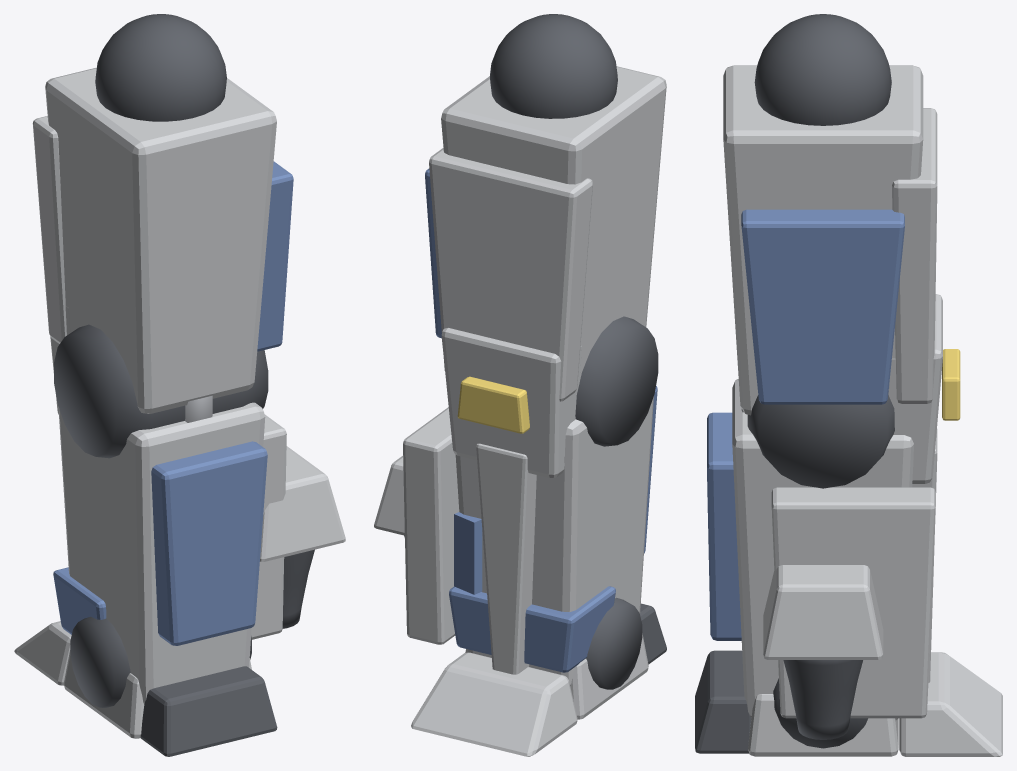
Rendered from leg_heavy_r.glb.
The picture shows the model from 3 angles, left to right: view 1: azimuth 30°, elevation 25°; view 2: azimuth 150°, elevation 25°; view 3: azimuth 270°, elevation 25°; orthographic projection. The views are drawn at different scales.
Parts seen in each view (by area): view 1: thigh, shin, calf, hip_joint, knee_cyl, heel, hover_fairing, thigh_front, thigh_side, ankle, shin_armor2, foot (+4 smaller); view 2: thigh_front, thigh, shin, toe, knee_cap, hip_joint, shin_armor2, shin_ridge, knee_cyl, ankle_guard, ankle, knee_trim (+6 smaller); view 3: thigh_side, thigh, shin_armor2, hip_joint, shin, hover_fairing, knee_cyl, thigh_front, toe, calf, heel, hover_pod (+5 smaller).
Part boxes in pixels (left/top/right/bottom): thigh: left=45, top=67, right=276, bottom=413; shin: left=58, top=402, right=265, bottom=703; calf: left=151, top=441, right=267, bottom=645; hip_joint: left=95, top=14, right=226, bottom=121; knee_cyl: left=54, top=324, right=268, bottom=458; heel: left=140, top=666, right=277, bottom=756; hover_fairing: left=260, top=446, right=345, bottom=562; thigh_front: left=32, top=116, right=66, bottom=343; thigh_side: left=257, top=161, right=293, bottom=351; ankle: left=70, top=616, right=251, bottom=707; shin_armor2: left=251, top=414, right=286, bottom=639; foot: left=63, top=650, right=251, bottom=738; thigh_front: left=429, top=148, right=592, bottom=401; thigh: left=441, top=66, right=666, bottom=378; shin: left=455, top=396, right=653, bottom=685; toe: left=411, top=652, right=577, bottom=756; knee_cap: left=441, top=328, right=581, bottom=477; hip_joint: left=489, top=14, right=617, bottom=118; shin_armor2: left=403, top=407, right=459, bottom=644; shin_ridge: left=476, top=443, right=536, bottom=674; knee_cyl: left=575, top=316, right=658, bottom=446; ankle_guard: left=449, top=586, right=615, bottom=672; ankle: left=586, top=597, right=642, bottom=689; knee_trim: left=457, top=376, right=529, bottom=433; thigh_side: left=741, top=209, right=904, bottom=404; thigh: left=723, top=65, right=923, bottom=415; shin_armor2: left=771, top=487, right=935, bottom=718; hip_joint: left=754, top=14, right=891, bottom=125; shin: left=732, top=379, right=913, bottom=720; hover_fairing: left=763, top=565, right=883, bottom=659; knee_cyl: left=747, top=395, right=894, bottom=488; thigh_front: left=892, top=108, right=937, bottom=403; toe: left=899, top=652, right=1002, bottom=756; calf: left=707, top=412, right=741, bottom=640; heel: left=695, top=650, right=751, bottom=753; hover_pod: left=783, top=660, right=862, bottom=739.
Bounding box in the file's own units: 3.13 × 8.7 × 3.43.
